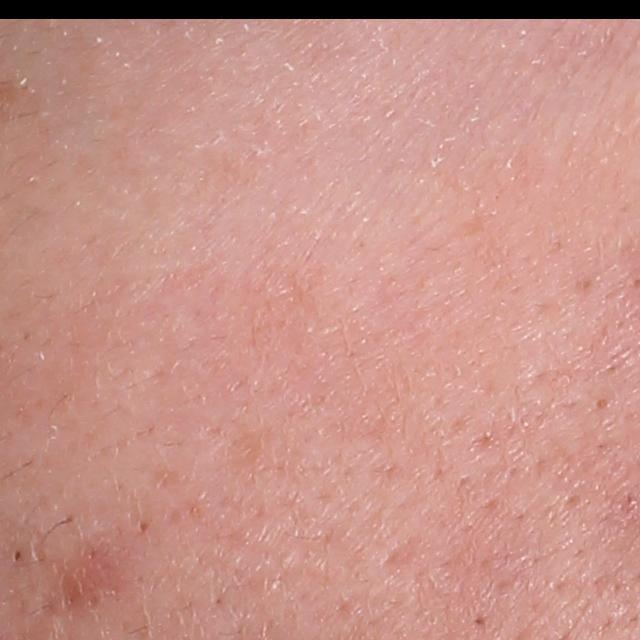comedo: (586, 392, 612, 415), (136, 516, 155, 536)
